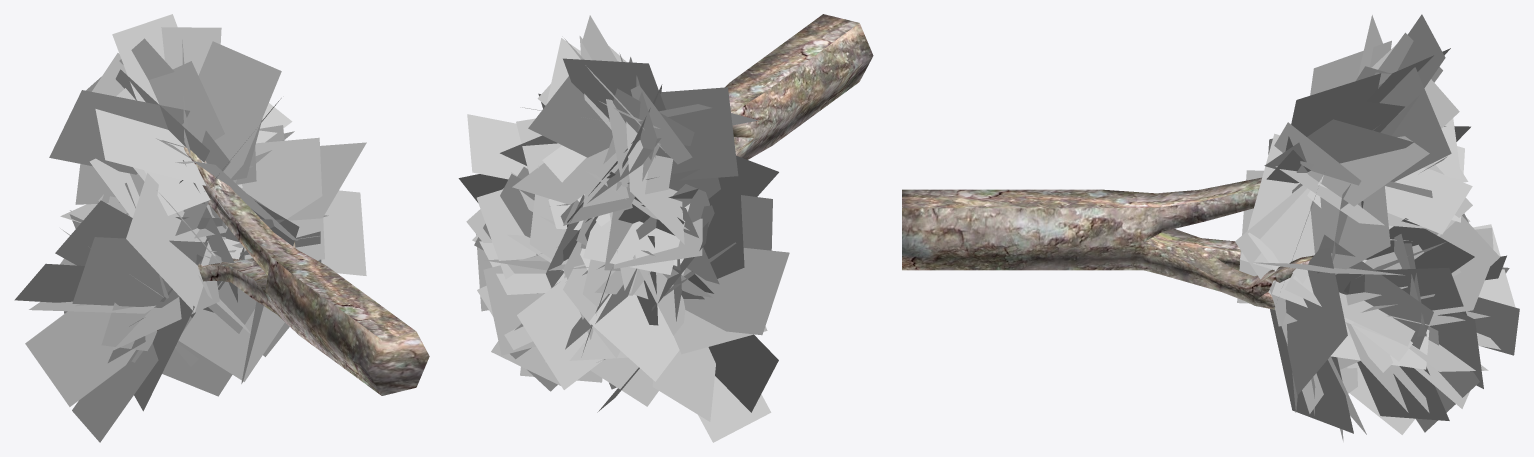
The model's file is tree.dae.
3 views of the same model, side by side, from view 1: azimuth 30°, elevation 25°; view 2: azimuth 150°, elevation 25°; view 3: azimuth 270°, elevation 25° (orthographic). The views are drawn at different scales.
Visible parts, largest first — view 1: branch.128, Cube; view 2: branch.128, Cube; view 3: branch.128, Cube.
Part boxes in pixels (x1,y1,x2,y2): branch.128: (14, 14, 366, 442); Cube: (157, 146, 429, 395); branch.128: (458, 15, 789, 442); Cube: (724, 14, 873, 159); branch.128: (1235, 14, 1519, 441); Cube: (902, 177, 1313, 309).
Bounding box in the file's own units: 6.03 × 9.12 × 6.41.
